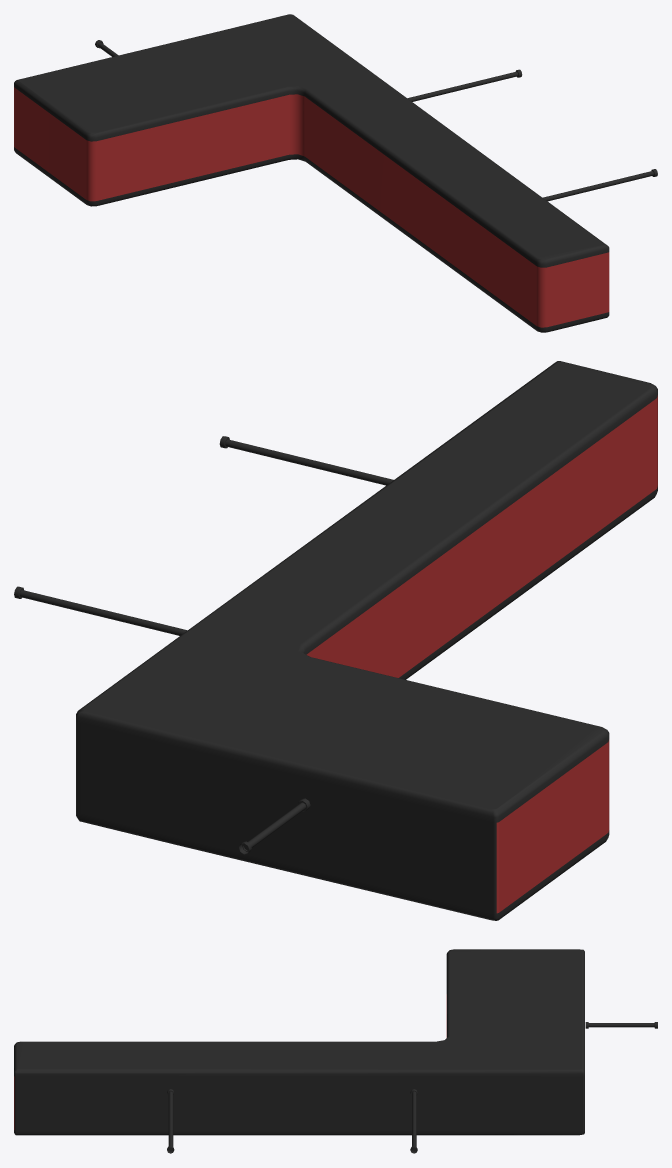
Rendered from ecranL_SM.fbx.
3 views of the same model, one above another, from view 1: azimuth 30°, elevation 25°; view 2: azimuth 150°, elevation 25°; view 3: azimuth 270°, elevation 25° (orthographic). The views are drawn at different scales.
Parts seen in each view (by area): view 1: ecranL_SM; view 2: ecranL_SM; view 3: ecranL_SM.
Boxes of the visible parts, x1=… form: ecranL_SM: x1=14, y1=14, x2=657, y2=332; ecranL_SM: x1=14, y1=361, x2=657, y2=920; ecranL_SM: x1=14, y1=949, x2=657, y2=1153.
Bounding box in the file's own units: 1183 × 203 × 1786.
